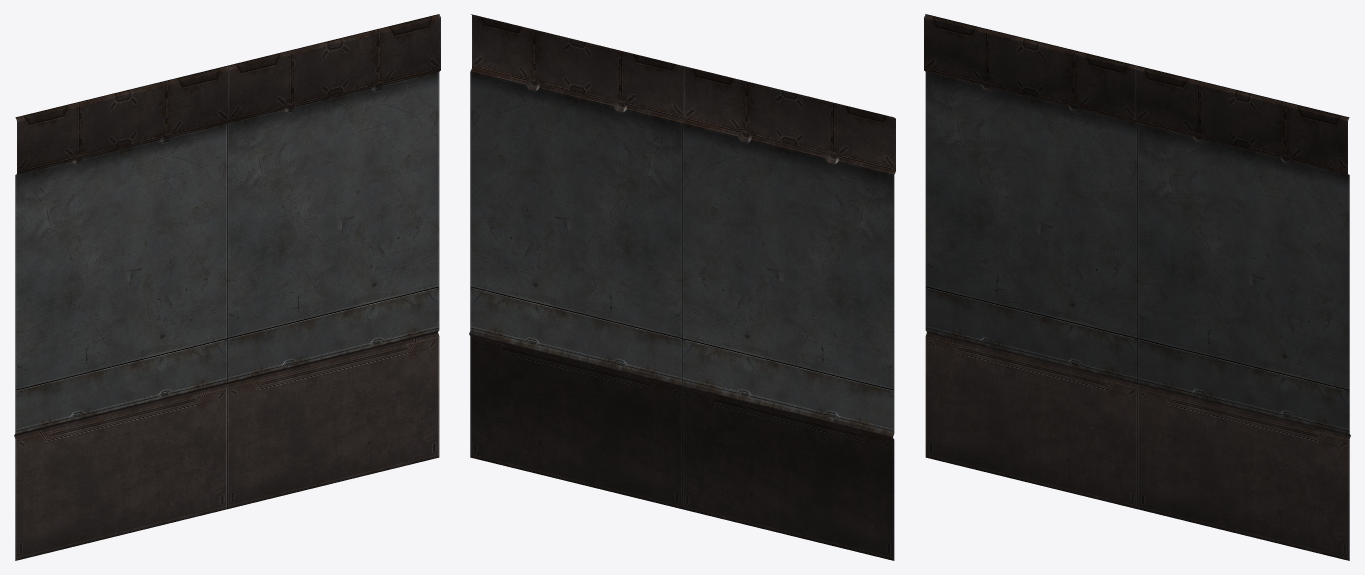
Rendered from datasite_flat01_brown.dae.
3 views of the same model, side by side, from view 1: azimuth 30°, elevation 25°; view 2: azimuth 150°, elevation 25°; view 3: azimuth 330°, elevation 25° (orthographic).
Parts seen in each view (by area): view 1: polySurface134; view 2: polySurface134; view 3: polySurface134.
Boxes of the visible parts, left/top/right/bottom form: polySurface134: left=14, top=14, right=440, bottom=560; polySurface134: left=469, top=14, right=895, bottom=560; polySurface134: left=924, top=14, right=1350, bottom=560.
Size of the model in its own units: 4 by 4 by 0.0483.
1 material, 1 textured.
